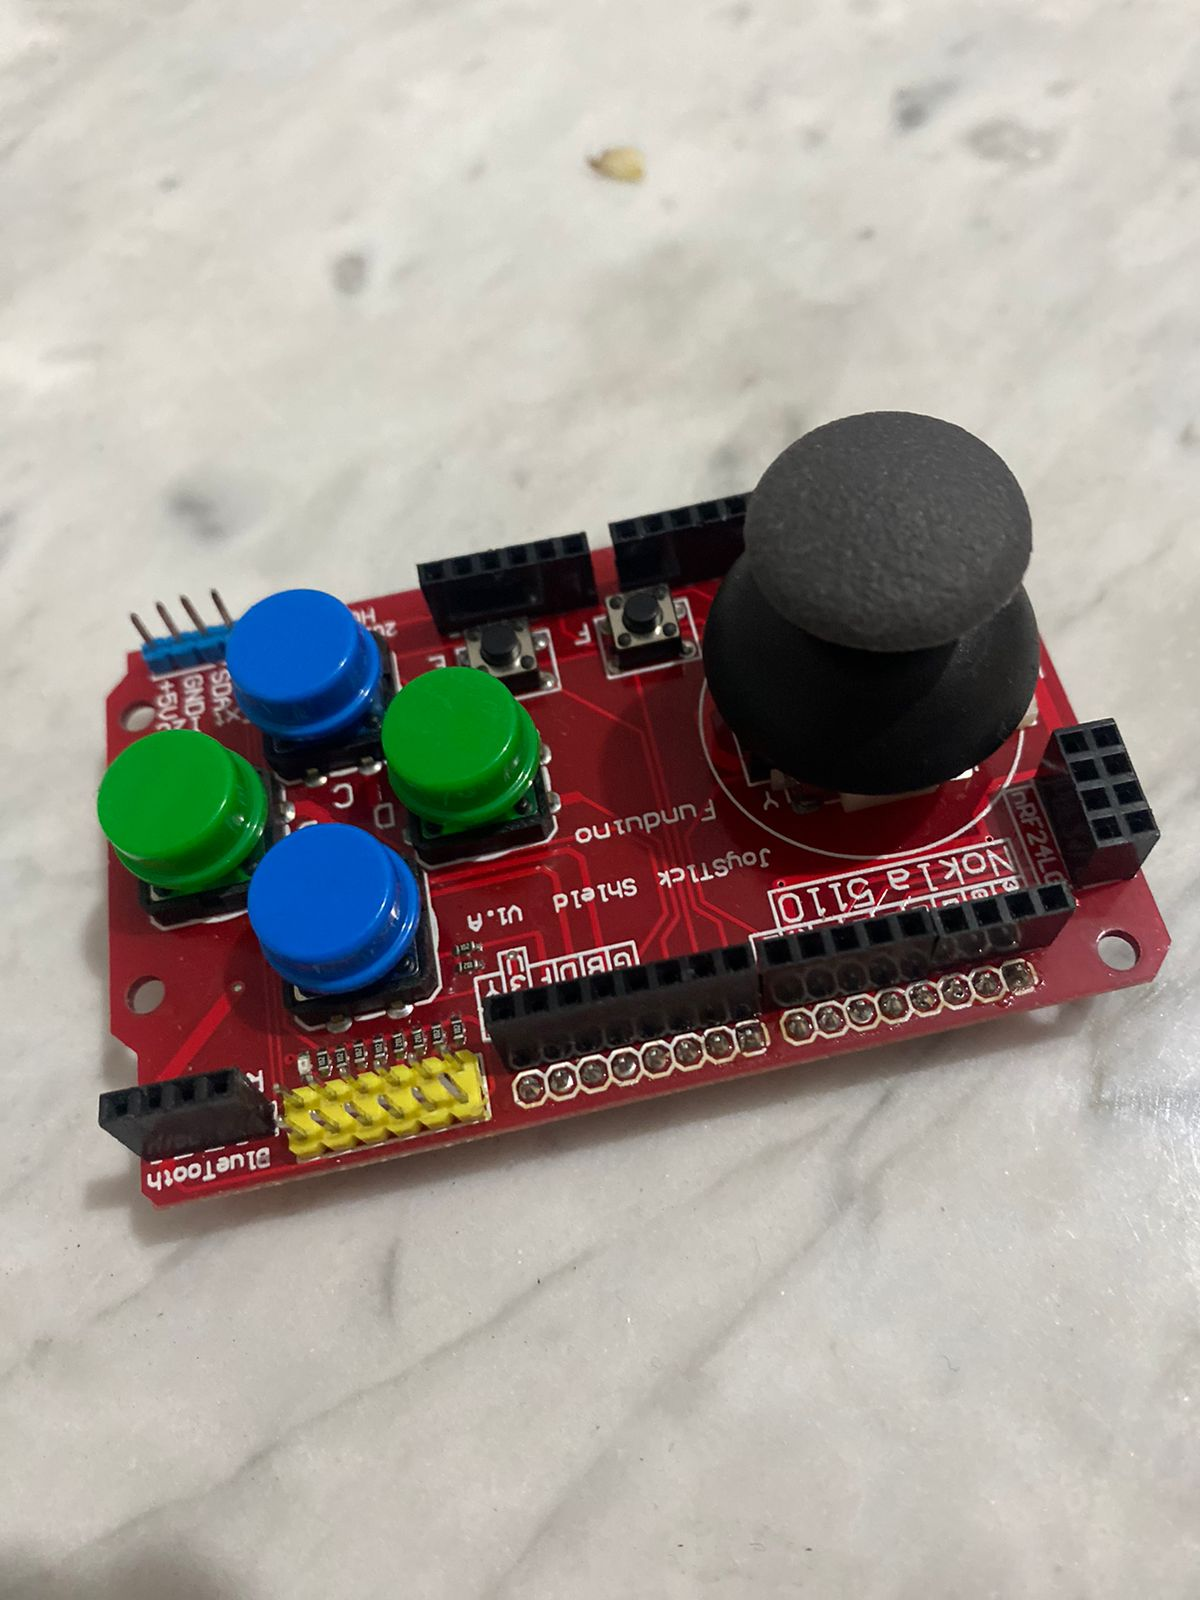Clavier-Joystick: (55, 408, 1174, 1204)
